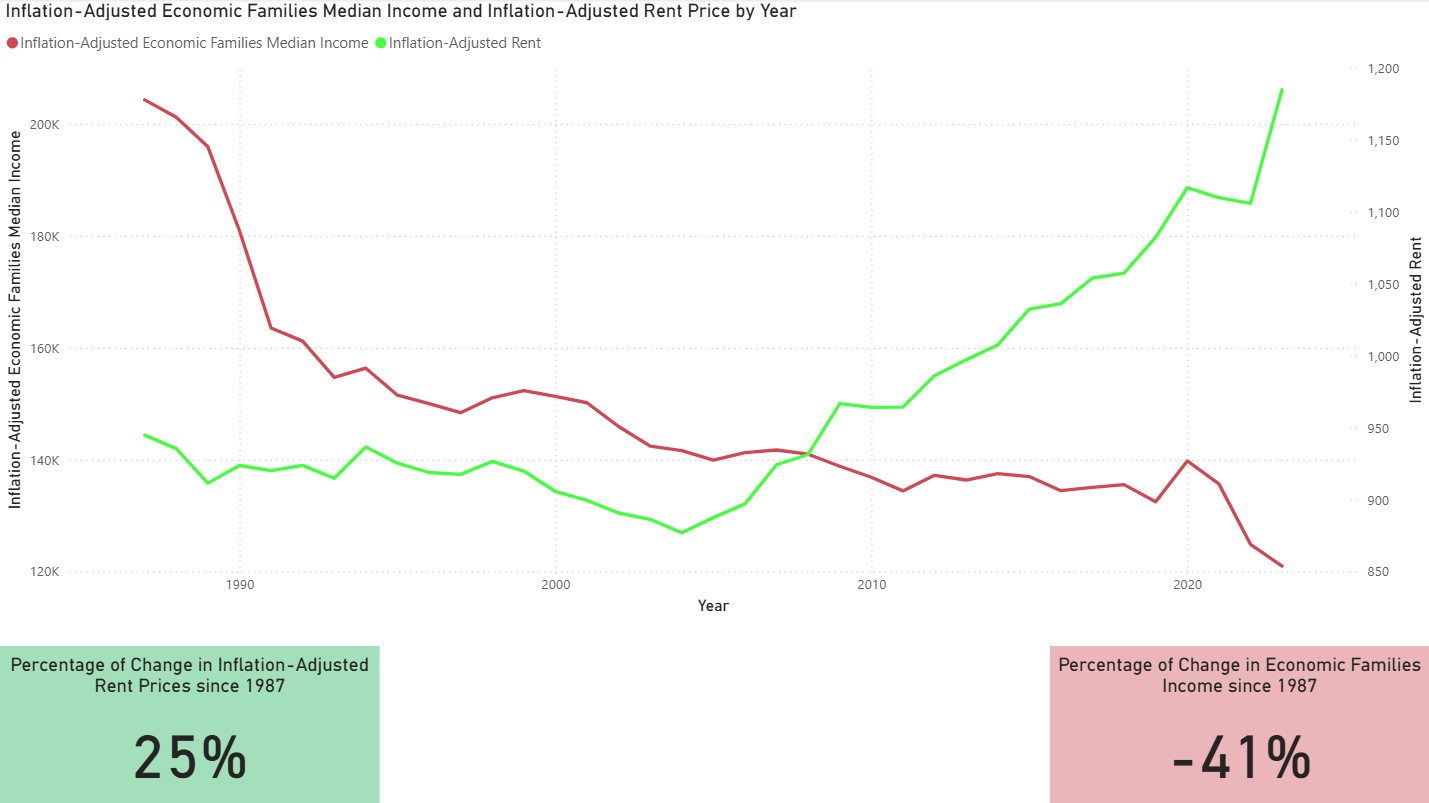

What the dashboard file says about the page in this screenshot:
{"tool":"powerbi","page":{"name":"Page 6","canvas":[1280,720],"ordinal":5},"visuals":[{"type":"card","title":"Percentage of Change in Economic Families  Income since 1987","fields":{"Values":["income_rent_1987_2023_combined.PctChangeRealIncomeSince1987"]},"box":[940.1,579.1,339.9,140.8],"z":0},{"type":"card","title":"Percentage of Change in Inflation-Adjusted Rent Prices since 1987","fields":{"Values":["income_rent_1987_2023_combined.PctChangeRealRentSince1987"]},"box":[0,579.1,339.9,140.8],"z":1000},{"type":"lineChart","title":"Inflation-Adjusted Economic Families Median Income and Inflation-Adjusted Rent Price by Year","fields":{"Category":["income_rent_1987_2023_combined.year"],"Y":["Median(income_rent_1987_2023_combined.real_income_2023)"],"Y2":["Median(income_rent_1987_2023_combined.real_rent_2023)"]},"box":[0,0,1279.7,556.1],"z":5000}]}

Visuals, with their boxes in screenshot pixels (x1, y1, x2, y2), scaled from the page's 1280x720 canvas onto the 1429x803 screenshot:
"Percentage of Change in Economic Families  Income since 1987" card: rect(1050, 646, 1428, 802)
"Percentage of Change in Inflation-Adjusted Rent Prices since 1987" card: rect(0, 646, 379, 802)
"Inflation-Adjusted Economic Families Median Income and Inflation-Adjusted Rent Price by Year" lineChart: rect(0, 0, 1428, 620)
